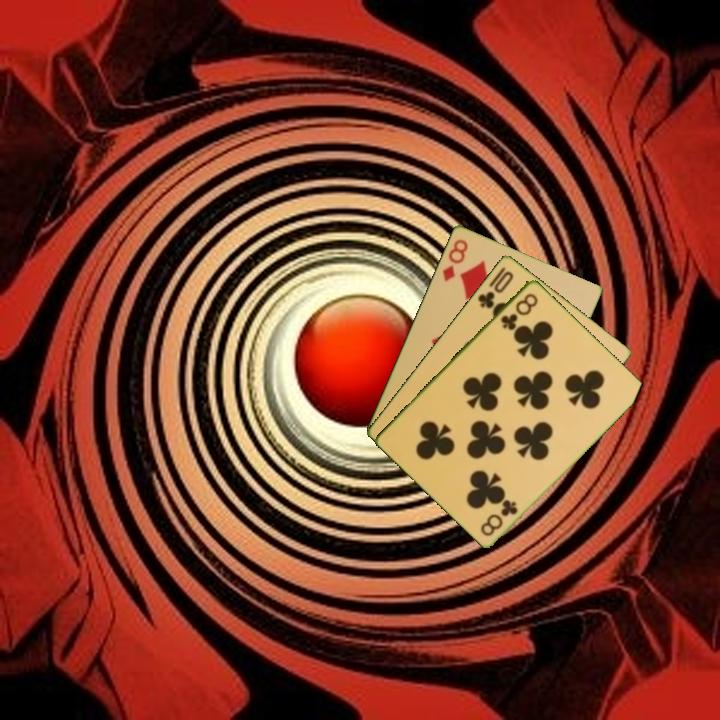10c: (474, 267, 516, 311)
8c: (497, 289, 541, 333), (477, 496, 521, 539)
8d: (439, 235, 471, 284)
